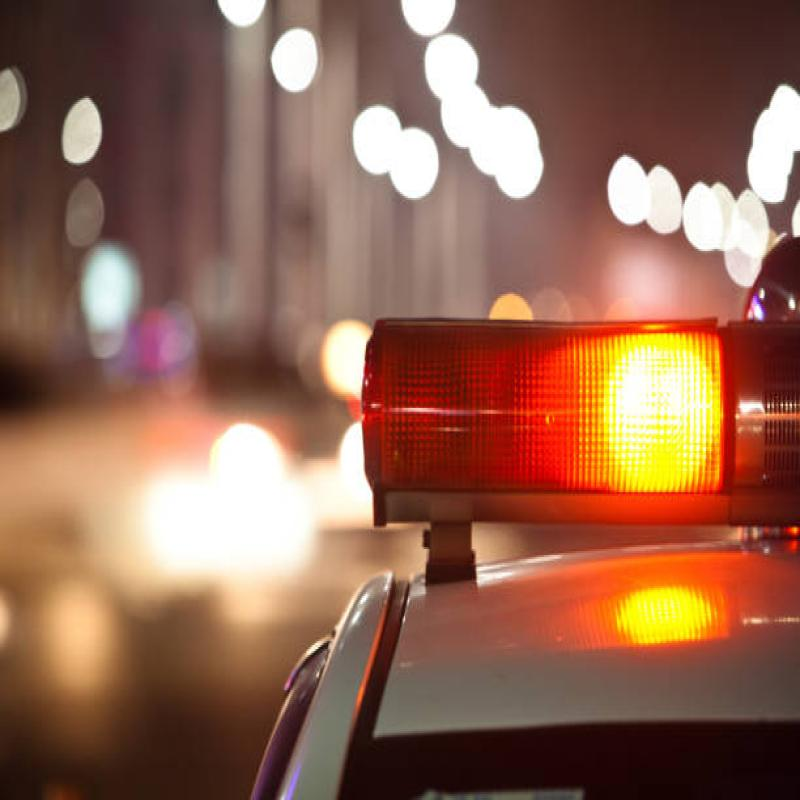AmbulanceSiren: (348, 292, 800, 611)
